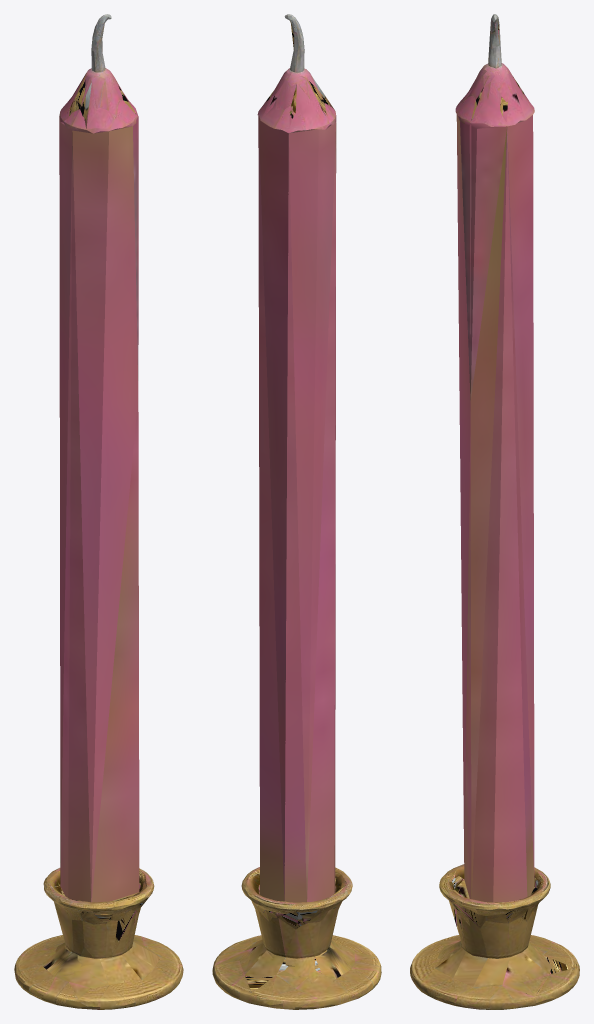
File: w3candlesmall.glb
The picture shows the model from 3 angles, left to right: view 1: azimuth 30°, elevation 25°; view 2: azimuth 150°, elevation 25°; view 3: azimuth 270°, elevation 25°; orthographic projection.
Visible parts, largest first — view 1: w3candlesmall_far, w3candlesmall_near; view 2: w3candlesmall_near, w3candlesmall_far; view 3: w3candlesmall_far, w3candlesmall_near.
Part boxes in pixels (x1,y1,x2,y2): w3candlesmall_far: (21, 76, 160, 999); w3candlesmall_near: (14, 14, 183, 1009); w3candlesmall_near: (212, 14, 381, 1009); w3candlesmall_far: (215, 22, 375, 998); w3candlesmall_far: (417, 21, 574, 996); w3candlesmall_near: (410, 14, 579, 1009).
Size of the model in its own units: 0.0383 by 0.24 by 0.0383.
1 material, 1 textured.
